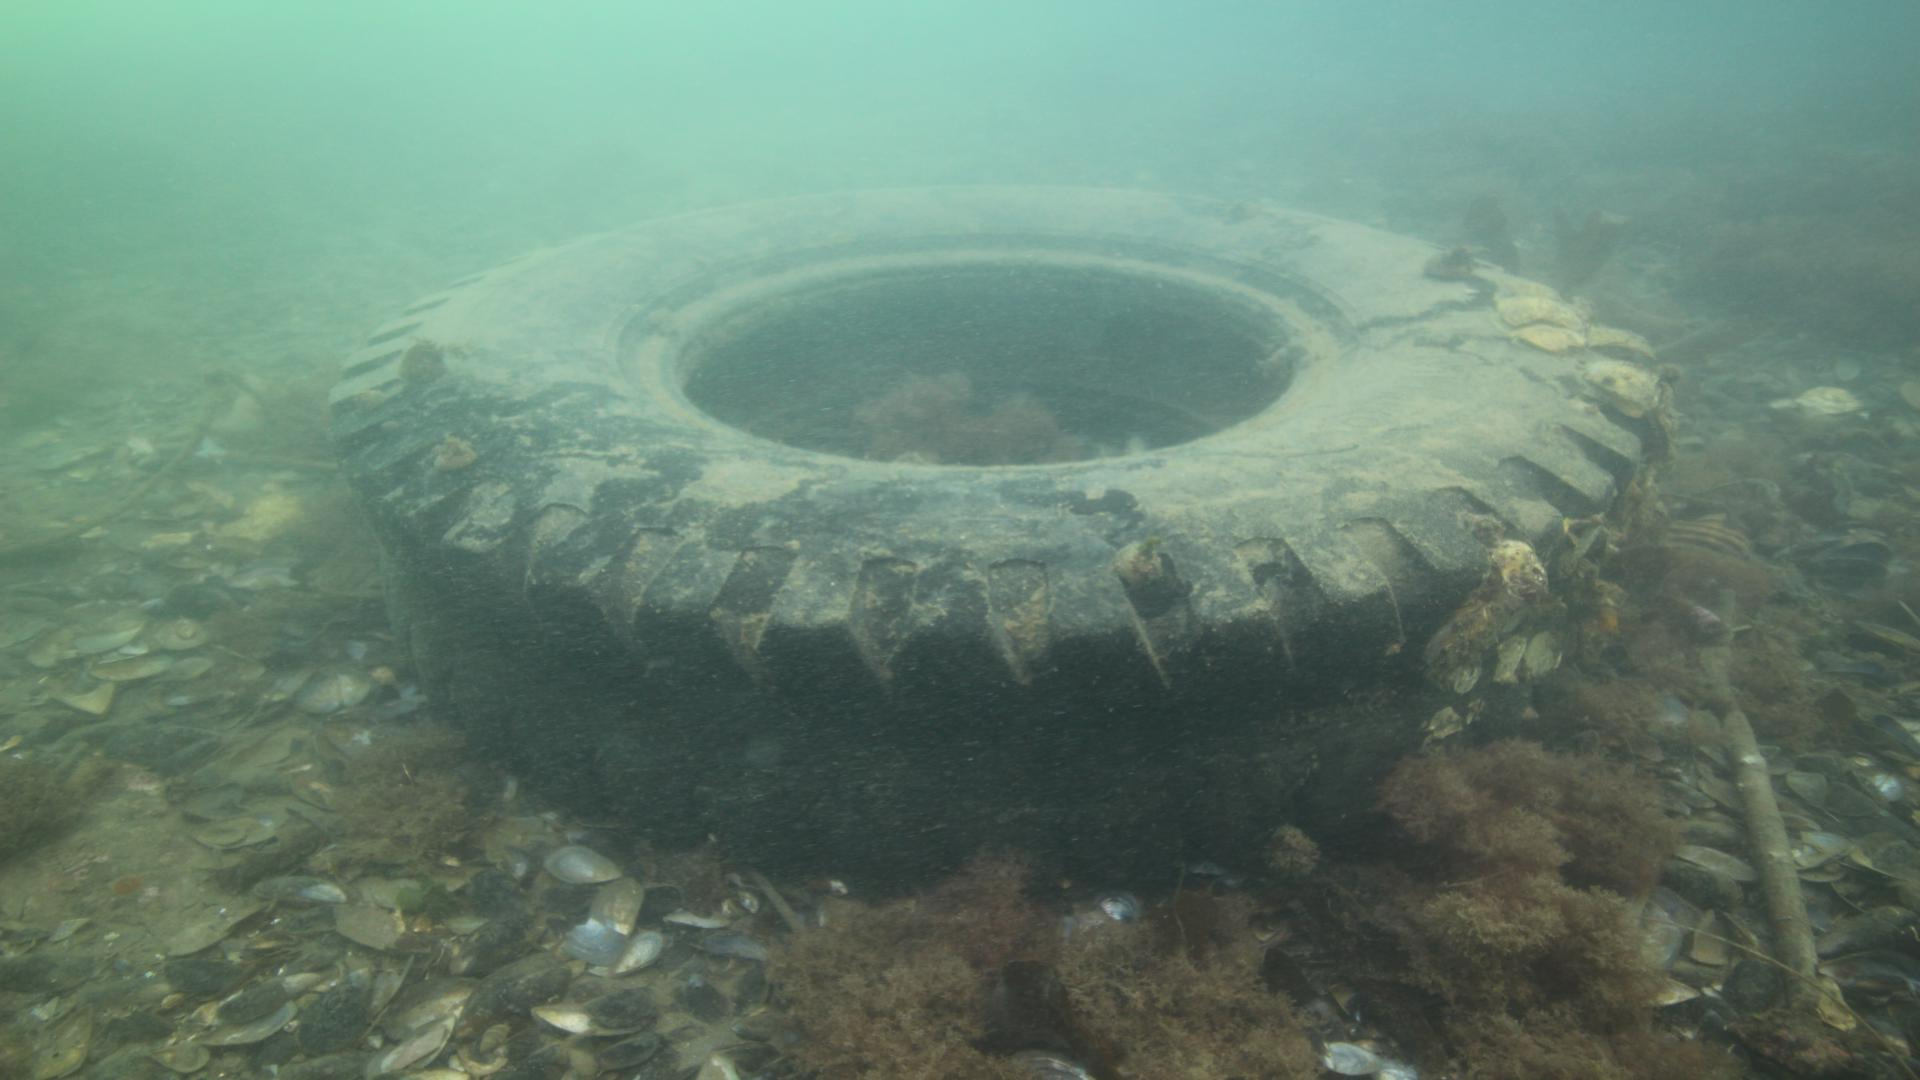tire: (326, 185, 1663, 894)
